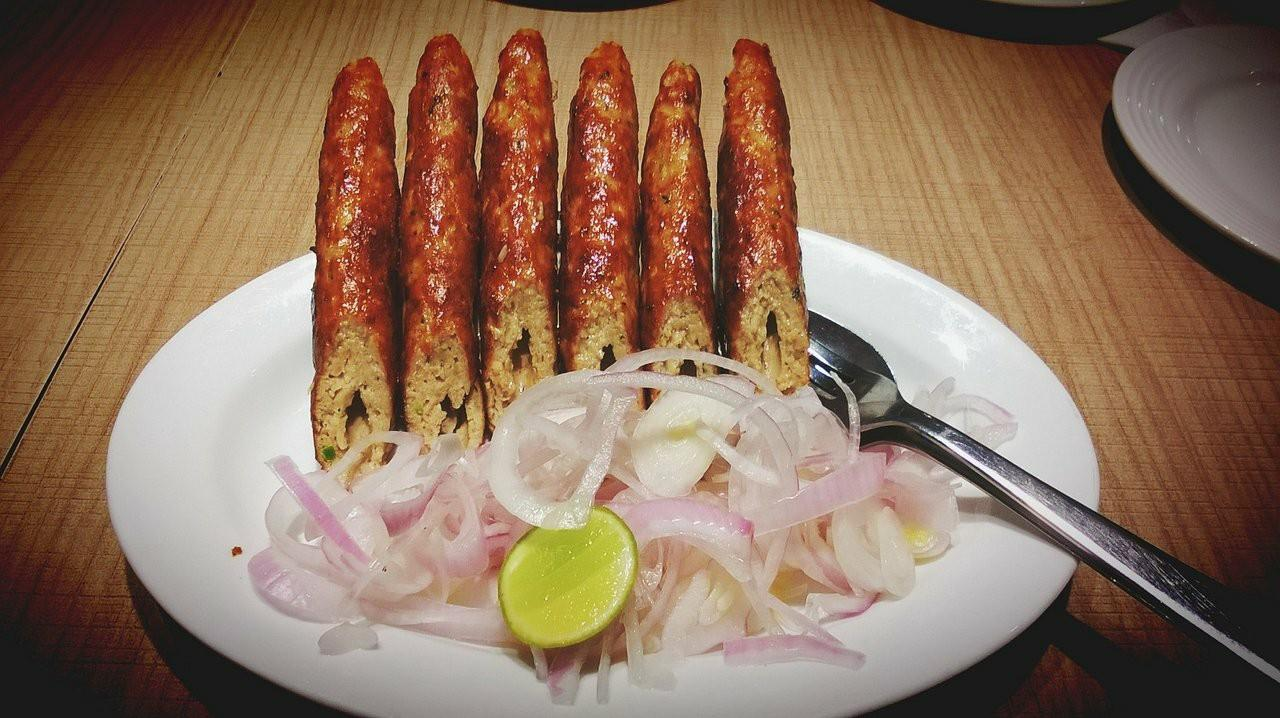Kebab: (310, 57, 395, 497), (397, 32, 484, 457), (716, 35, 808, 395), (482, 27, 557, 442), (562, 41, 641, 416), (642, 59, 711, 403)
